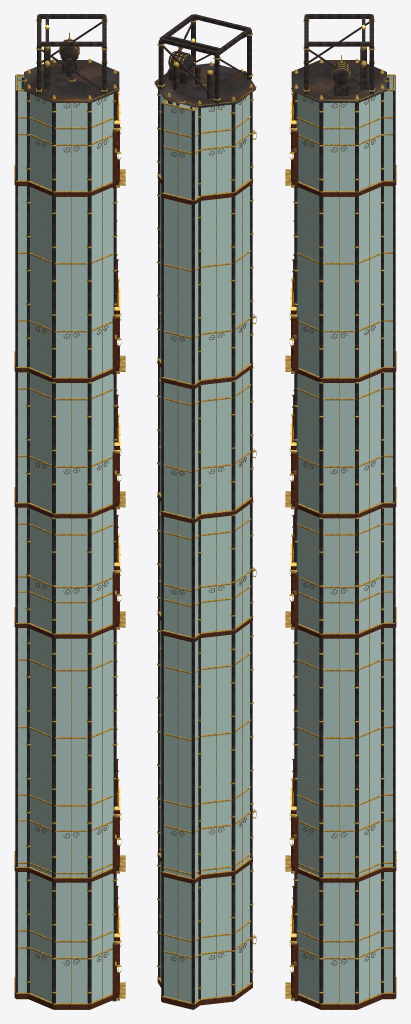
Rendered from sp_lift_shaft_g.glb.
The picture shows the model from 3 angles, left to right: view 1: azimuth 90°, elevation 25°; view 2: azimuth 150°, elevation 25°; view 3: azimuth 270°, elevation 25°; orthographic projection.
Parts seen in each view (by area): view 1: spire; view 2: spire; view 3: spire.
Boxes of the visible parts, bbox=[...] form: spire: bbox=[14, 14, 125, 1009]; spire: bbox=[154, 14, 256, 1009]; spire: bbox=[285, 14, 396, 1009].
Bounding box in the file's own units: 5.15 × 57.07 × 5.94.
16 materials, 12 textured.
